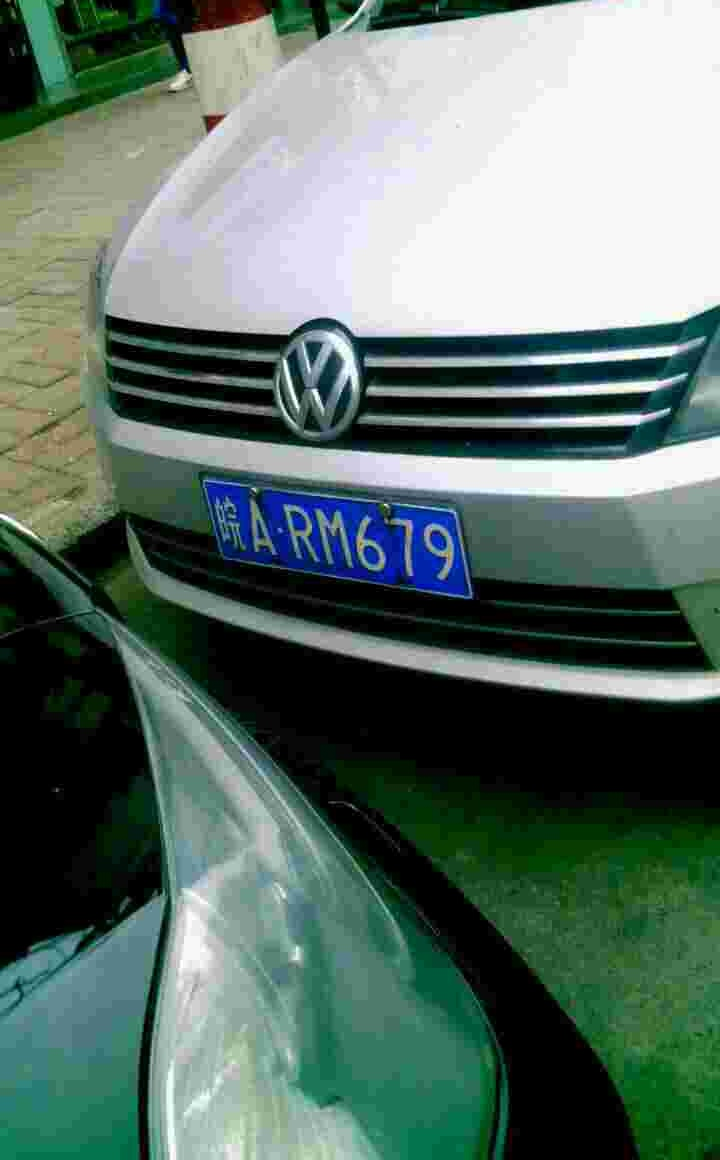license_plate: (211, 477, 464, 606)
